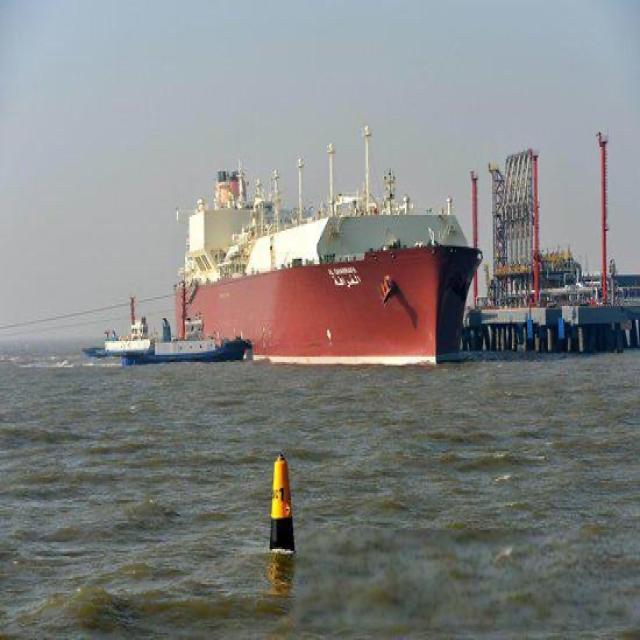cargoship: (174, 150, 470, 364)
houseboat: (91, 294, 257, 367)
